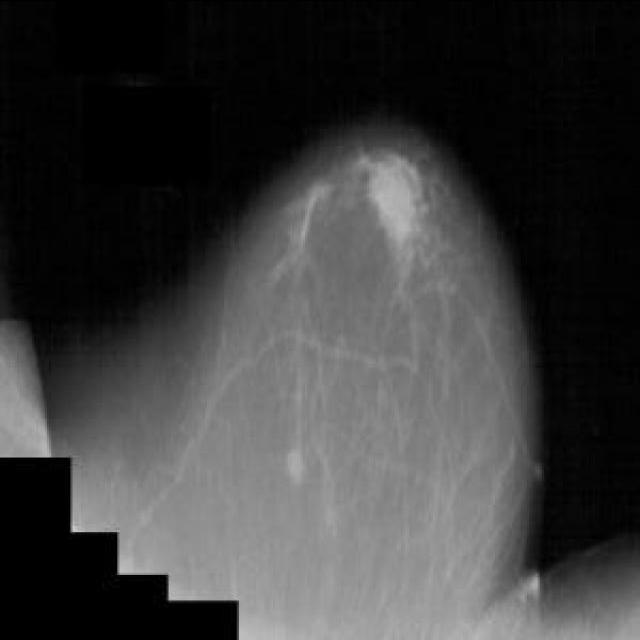tumor: (342, 145, 437, 258), (266, 430, 320, 490)
